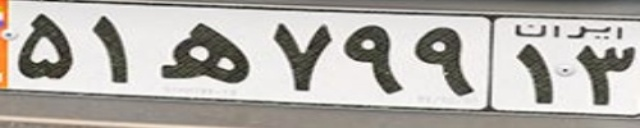1: (89, 14, 131, 82), (515, 42, 553, 104)
3: (573, 44, 636, 105)
5: (18, 13, 73, 79)
7: (272, 22, 333, 91)
9: (414, 26, 475, 96), (343, 24, 402, 94)
he: (160, 22, 250, 84)
